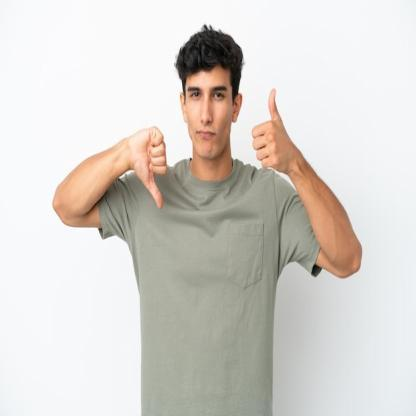thumb_down: (128, 121, 170, 212)
thumb_up: (250, 86, 286, 172)
